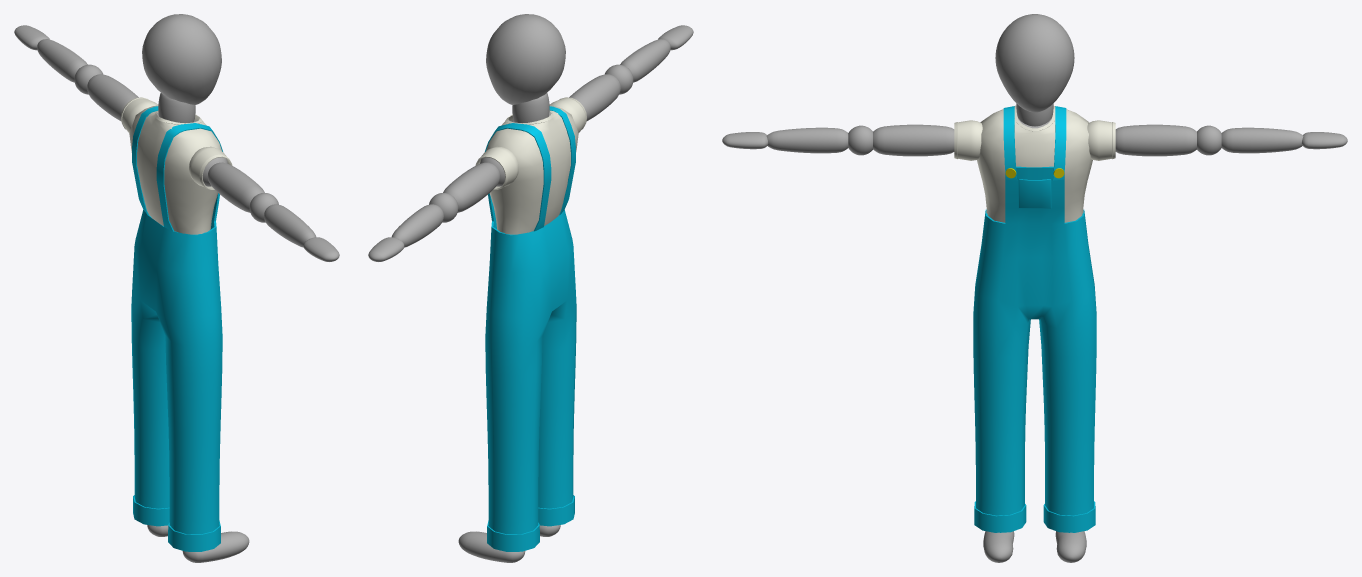
Rendered from overalls.fbx.
3 renders of one model, left to right at view 1: azimuth 30°, elevation 25°; view 2: azimuth 150°, elevation 25°; view 3: azimuth 270°, elevation 25°, orthographic.
Parts seen in each view (by area): view 1: overalls, shirt_torso, pSphere1, pSphere12, pSphere17, pSphere14, pSphere19, pSphere11, pSphere3, shirt_sleeve_R, pSphere15, shirt_sleeve_L (+3 smaller); view 2: overalls, shirt_torso, pSphere1, pSphere17, pSphere12, pSphere19, pSphere14, pSphere25, pSphere3, shirt_sleeve_L, pSphere20, shirt_sleeve_R (+3 smaller); view 3: overalls, shirt_torso, pSphere1, pSphere12, pSphere17, pSphere14, pSphere19, shirt_sleeve_R, shirt_sleeve_L, pSphere11, pSphere25.
Part boxes in pixels (box(x1,y1,x2,y2)): overalls: box(131, 106, 222, 551); shirt_torso: box(129, 105, 221, 234); pSphere1: box(142, 14, 221, 104); pSphere12: box(207, 162, 264, 212); pSphere17: box(87, 74, 138, 120); pSphere14: box(264, 204, 316, 247); pSphere19: box(37, 39, 87, 82); pSphere11: box(182, 531, 249, 562); pSphere3: box(158, 93, 195, 123); shirt_sleeve_R: box(189, 146, 232, 189); pSphere15: box(303, 237, 339, 261); shirt_sleeve_L: box(121, 97, 158, 133); overalls: box(485, 106, 576, 551); shirt_torso: box(486, 105, 578, 234); pSphere1: box(486, 14, 565, 104); pSphere17: box(443, 162, 500, 212); pSphere12: box(569, 74, 620, 120); pSphere19: box(391, 204, 443, 247); pSphere14: box(620, 39, 670, 82); pSphere25: box(458, 531, 525, 562); pSphere3: box(512, 93, 549, 123); shirt_sleeve_L: box(475, 146, 518, 189); pSphere20: box(368, 237, 404, 261); shirt_sleeve_R: box(549, 97, 586, 132); overalls: box(973, 106, 1096, 532); shirt_torso: box(977, 105, 1092, 222); pSphere1: box(995, 14, 1074, 112); pSphere12: box(873, 124, 954, 156); pSphere17: box(1115, 124, 1196, 156); pSphere14: box(766, 127, 848, 153); pSphere19: box(1221, 127, 1303, 153); shirt_sleeve_R: box(954, 120, 982, 160); shirt_sleeve_L: box(1087, 120, 1115, 160); pSphere11: box(983, 531, 1014, 562); pSphere25: box(1055, 531, 1086, 562).
Size of the model in its own units: 3.39 by 20.65 by 22.18.
